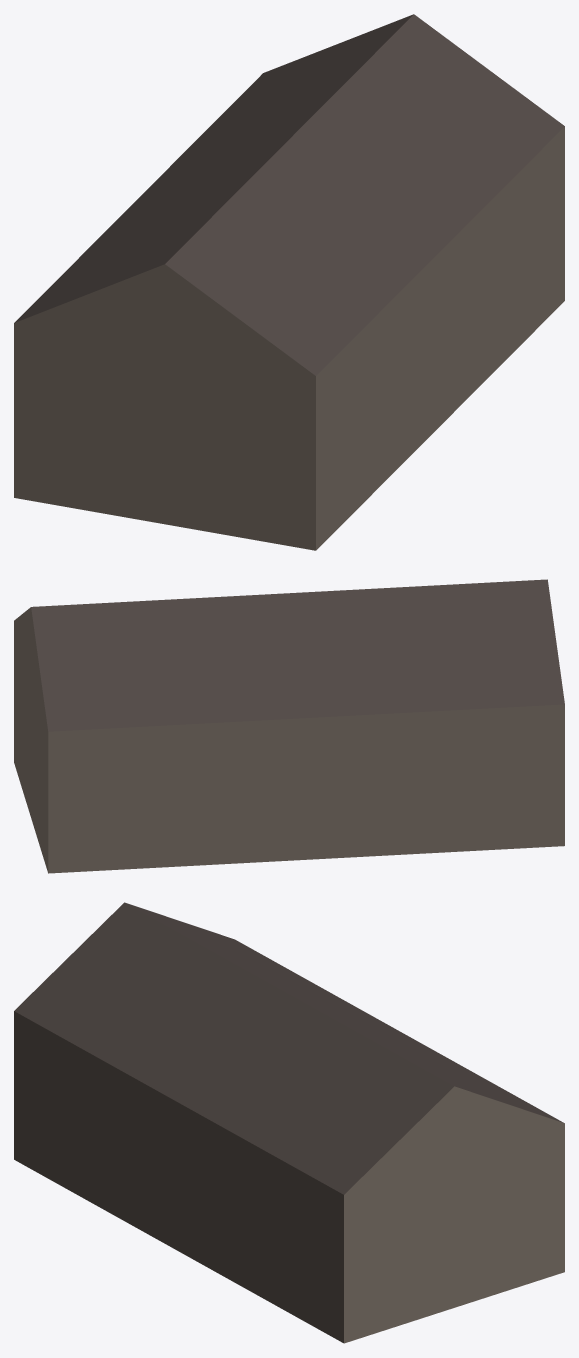
The picture shows the model from 3 angles, top to bottom: view 1: azimuth 30°, elevation 25°; view 2: azimuth 150°, elevation 25°; view 3: azimuth 270°, elevation 25°; orthographic projection. The views are drawn at different scales.
Parts seen in each view (by area): view 1: HP-w1202250223; view 2: HP-w1202250223; view 3: HP-w1202250223.
Part boxes in pixels (box(x1,y1,x2,y2)): HP-w1202250223: box(14, 14, 564, 550); HP-w1202250223: box(14, 579, 564, 873); HP-w1202250223: box(14, 902, 564, 1343).
Bounding box in the file's own units: 22.12 × 8.94 × 20.16.
